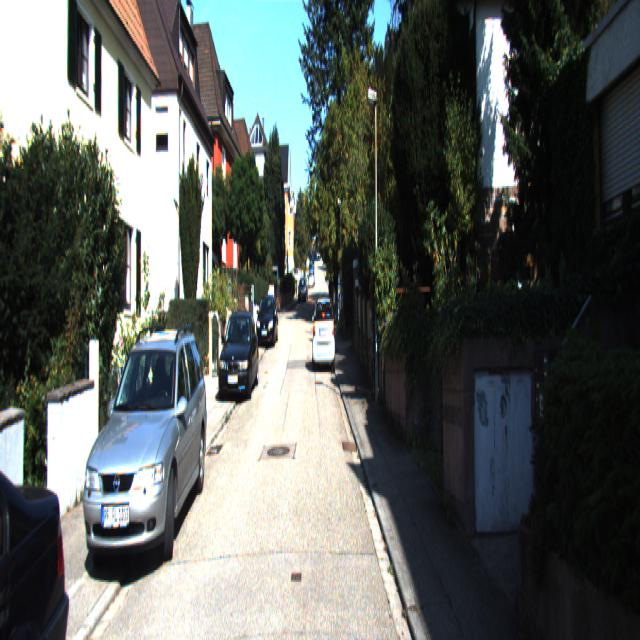Car: (80, 326, 211, 587), (0, 382, 90, 638), (217, 312, 260, 403), (312, 293, 336, 371), (256, 295, 279, 348)
